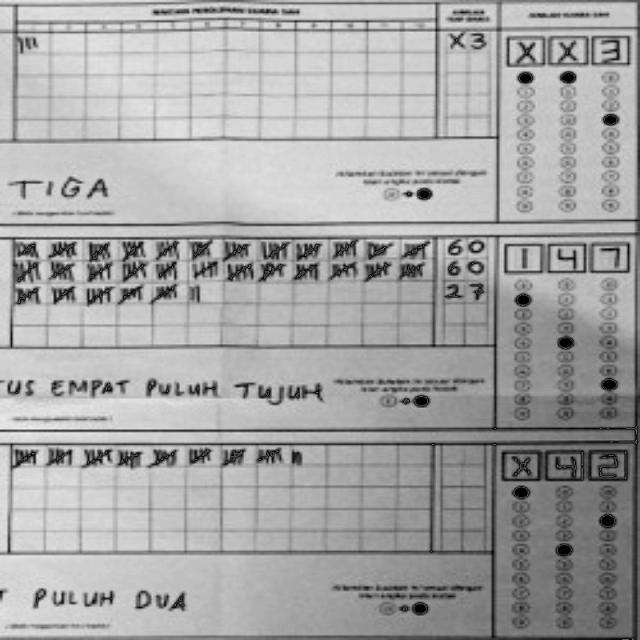Suara: (493, 439, 630, 483), (500, 235, 631, 275), (504, 30, 634, 66)
